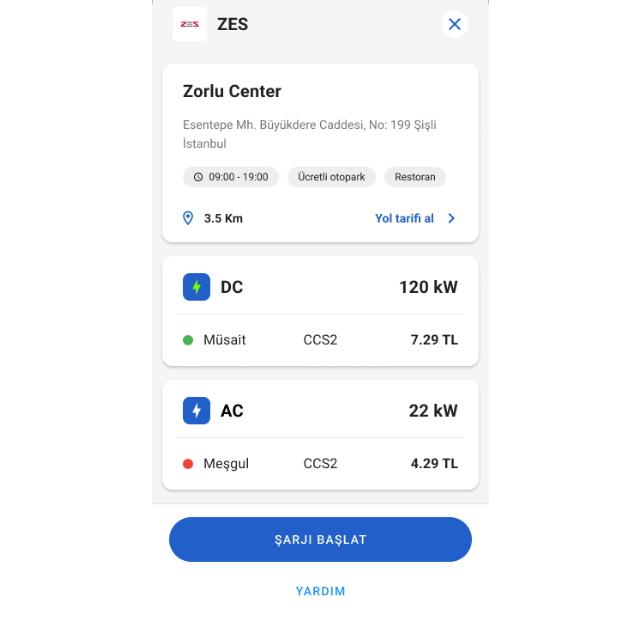QLabel: (179, 116, 439, 132), (179, 80, 283, 102), (272, 532, 368, 550), (396, 277, 460, 297), (404, 402, 458, 421), (371, 212, 437, 226), (200, 456, 250, 474), (406, 456, 460, 472), (408, 332, 460, 348), (200, 210, 244, 228), (290, 584, 346, 598), (200, 332, 248, 348), (180, 135, 227, 149), (301, 332, 339, 346), (301, 457, 339, 471), (216, 16, 248, 32), (216, 280, 244, 294), (218, 404, 245, 418)
VBtn: (168, 516, 472, 564)
VCard: (160, 62, 480, 244), (160, 256, 480, 368), (160, 378, 480, 490)
VChip: (286, 165, 376, 188), (184, 166, 278, 188), (386, 165, 446, 187)
VDivider: (170, 311, 466, 317), (170, 436, 470, 440)
VFooter: (152, 504, 488, 640)
VIcon: (440, 9, 468, 39), (179, 210, 195, 227), (180, 456, 193, 472), (180, 334, 194, 348), (444, 213, 456, 225)
VImg: (172, 5, 206, 40), (181, 395, 211, 425), (181, 272, 211, 302)
